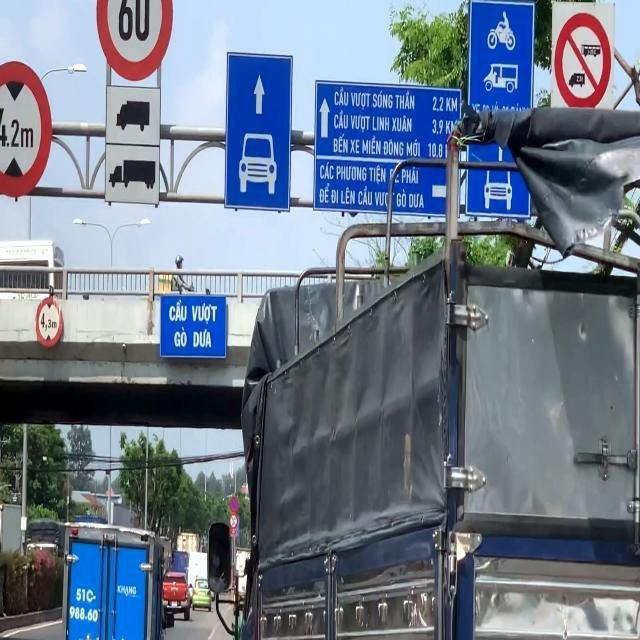Cam dung xe va do xe: (230, 496, 238, 513)
Han che chieu cao: (0, 60, 52, 197), (36, 298, 64, 348)
Toc do toi da cho phep: (95, 0, 173, 82)
